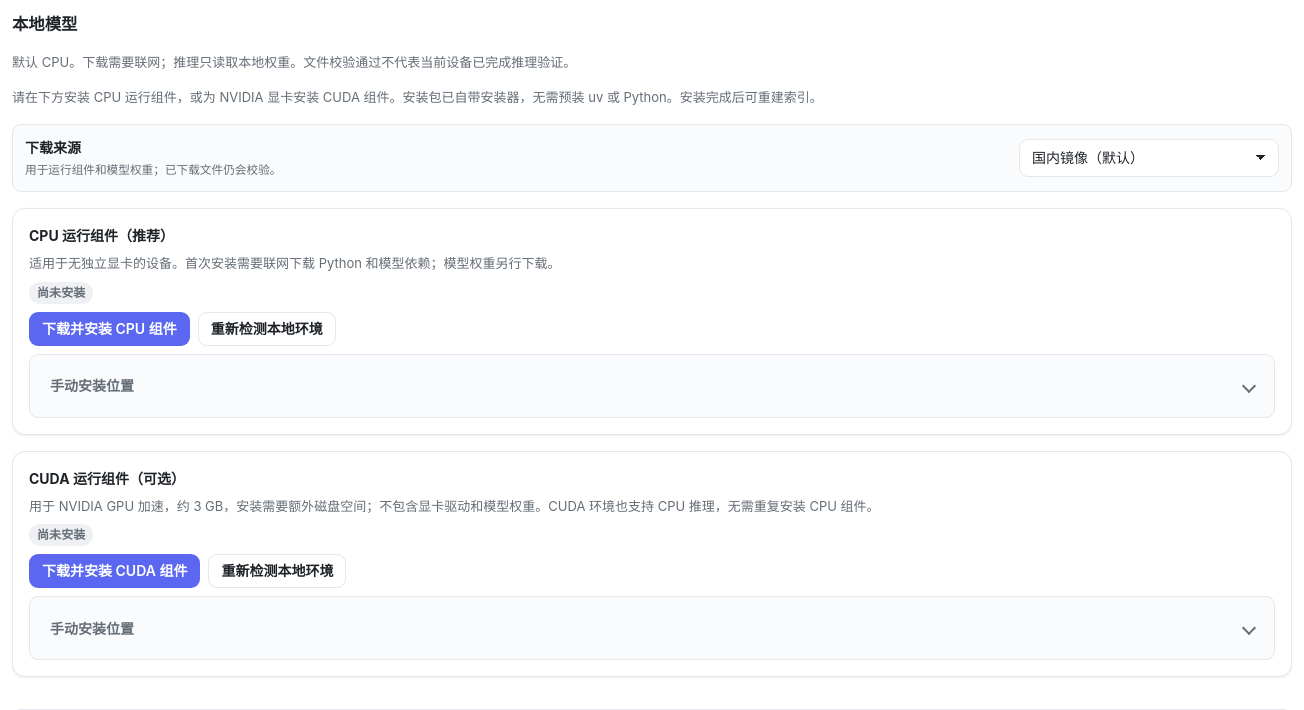
Test: offers CPU installation on a clean machine without source checkout instructions
Click the button "下载并安装 CPU 组件". click: coordinates (109, 329)
box: [29,312,190,346]
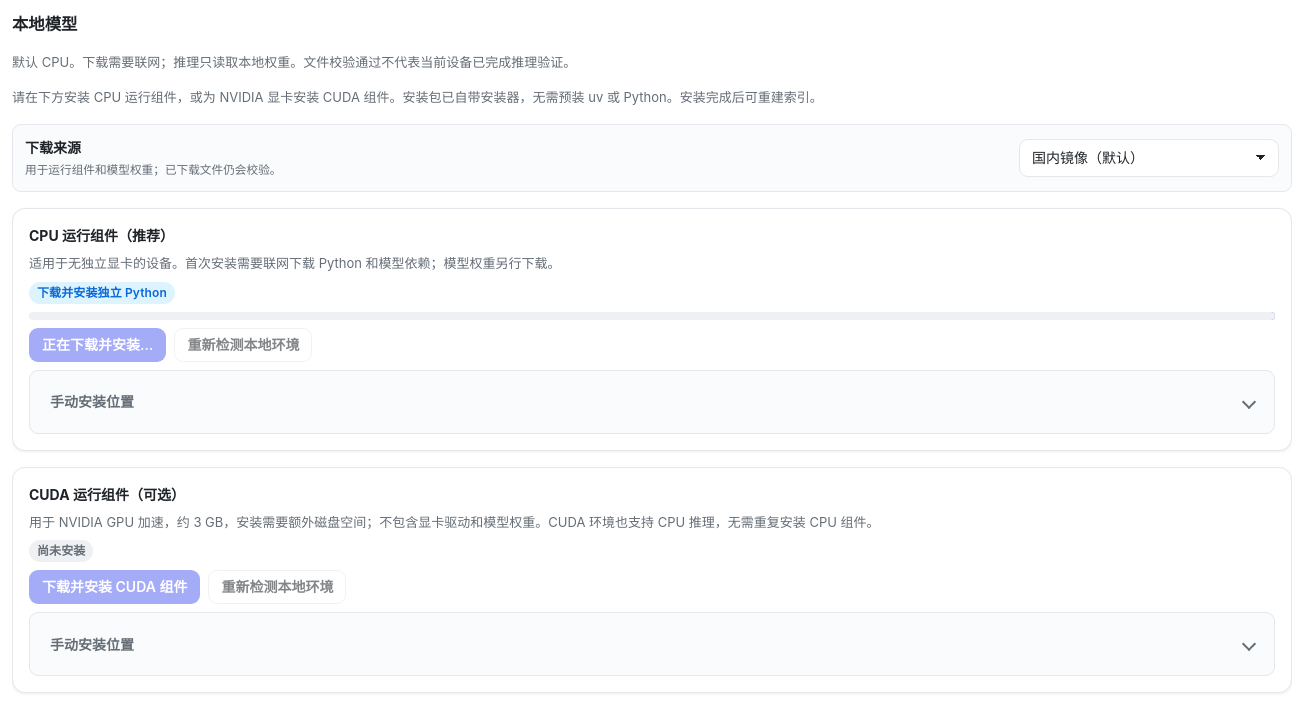
Now the text "下载并安装独立 Python" is shown, box [29,282,175,304]
Now the button "下载并安装 CUDA 组件" is disabled, box [29,570,200,604]
